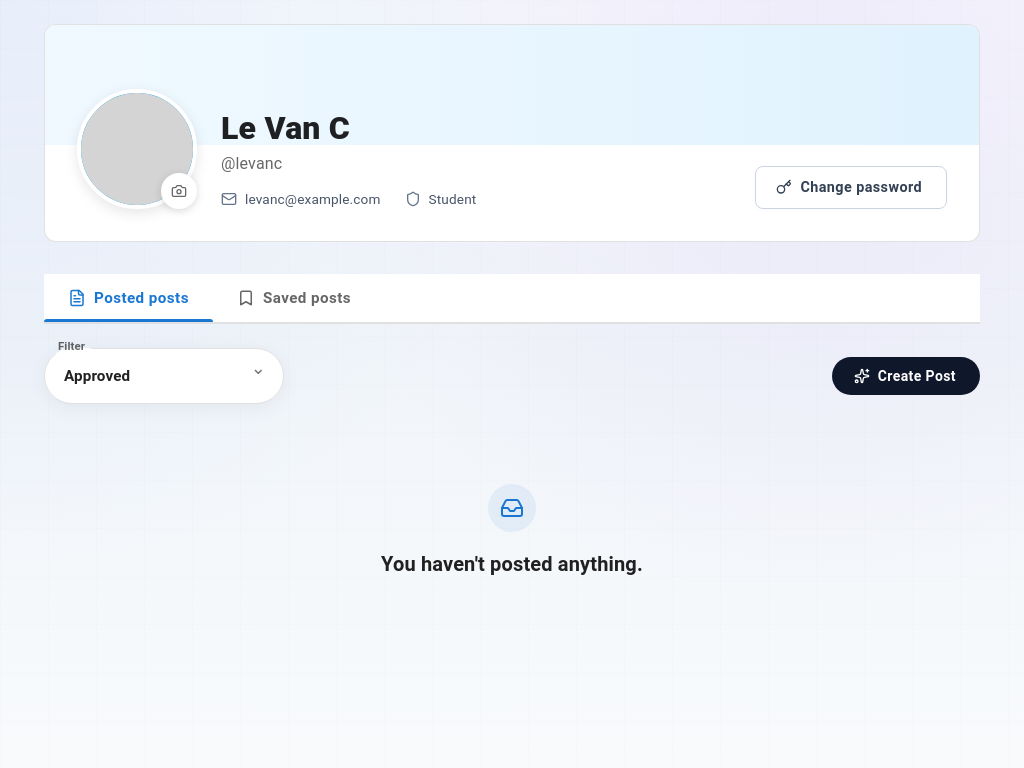
Test: ProfilePage › shouldRenderUserProfileAndSwitchTabs
expect the heading "Le Van C" is shown: met, box [221,109,350,147]
expect the tab "Posted posts" is shown: met, box [44,274,213,322]
Click the tab "Saved posts": (294, 298) [213,274,375,322]
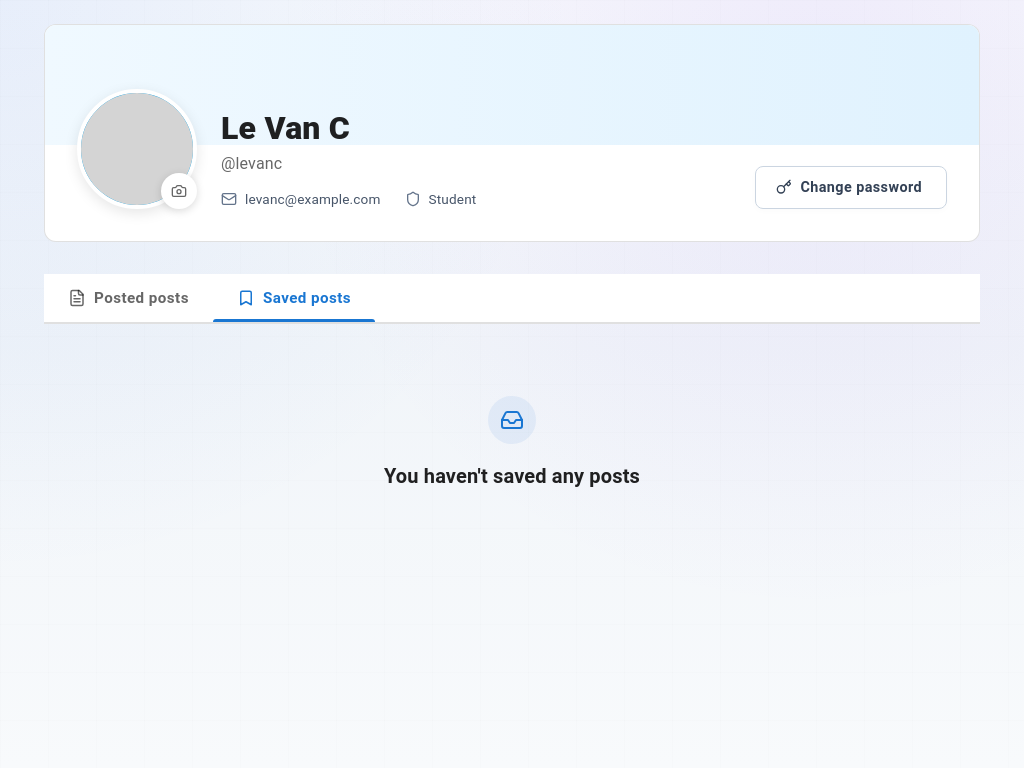
expect the heading "You haven't saved any posts" is shown: met, box [384,464,640,488]
